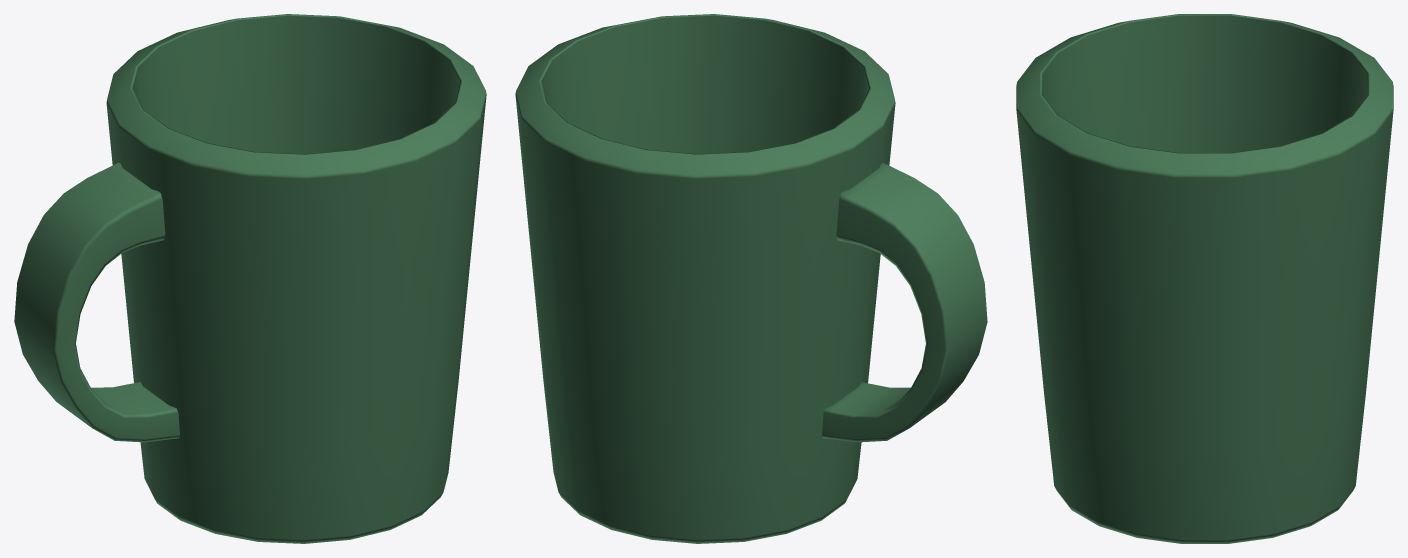
Rendered from Cup.fbx.
3 views of the same model, side by side, from view 1: azimuth 30°, elevation 25°; view 2: azimuth 150°, elevation 25°; view 3: azimuth 270°, elevation 25° (orthographic).
Parts seen in each view (by area): view 1: Cup; view 2: Cup; view 3: Cup.
Boxes of the visible parts, x1,y1,x2,y2 form: Cup: (14,14,486,543); Cup: (515,14,987,543); Cup: (1016,14,1393,543).
Bounding box in the file's own units: 10.92 × 9.79 × 8.35.
